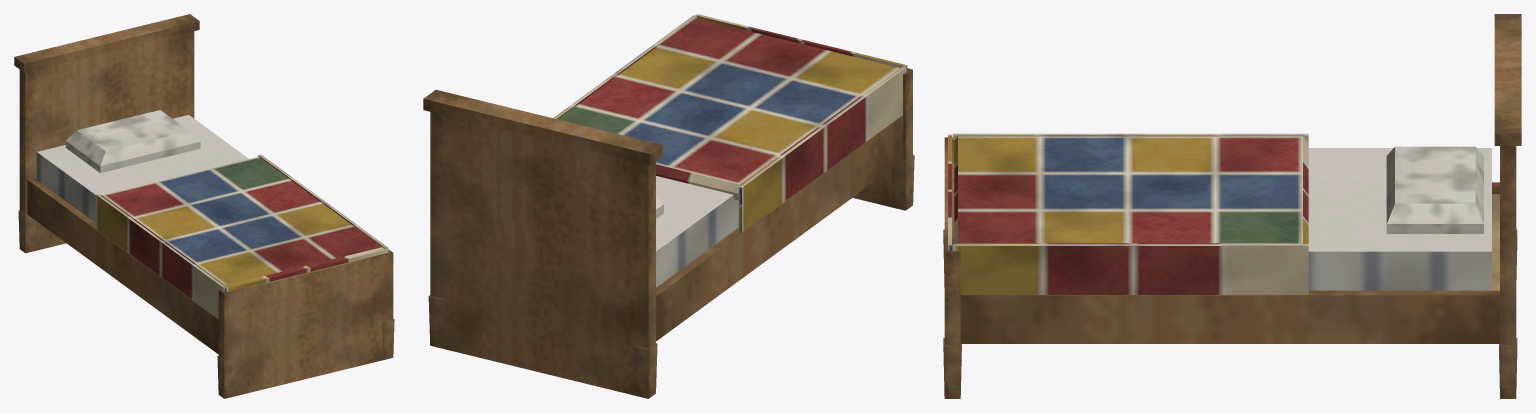
File: bed_single_oak.obj
3 renders of one model, left to right at view 1: azimuth 30°, elevation 25°; view 2: azimuth 150°, elevation 25°; view 3: azimuth 270°, elevation 25°, orthographic. The views are drawn at different scales.
Visible parts, largest first — view 1: bed_single_oak; view 2: bed_single_oak; view 3: bed_single_oak.
Boxes of the visible parts, x1,y1,x2,y2 form: bed_single_oak: (14,14,394,398); bed_single_oak: (423,14,914,398); bed_single_oak: (943,14,1521,398).
Size of the model in its own units: 1.05 by 1.1 by 2.14.
Materials: 1 (1 with a texture image).
